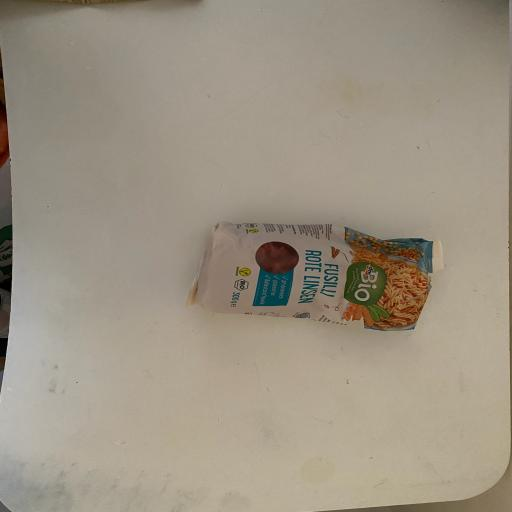pasta_fusili_lentil: (187, 194, 463, 351)
